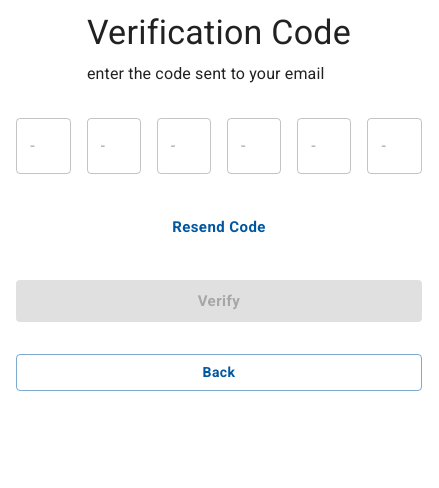
ForgotPasswordCode page › Resend code › display a success message when the code is sent
Step 1. Click the button "Resend Code" → (219, 227), box [16,206,422,248]
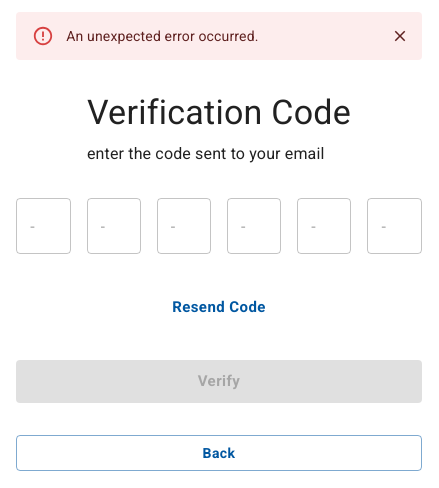
Expected: the form with test id "success" is shown, [16,198,422,471]
Expected: the message "An unexpected error occurred." is shown, [16,12,422,60]
